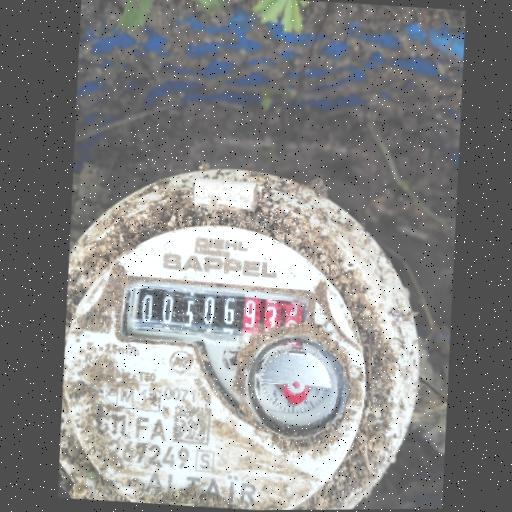0: (156, 289, 184, 332), (134, 286, 159, 330), (197, 292, 222, 336)
3: (259, 299, 284, 337)
5: (177, 291, 202, 333), (282, 297, 305, 339)
6: (218, 294, 243, 336)
9: (238, 297, 261, 338)
border_water_meter_number: (124, 279, 319, 353)
